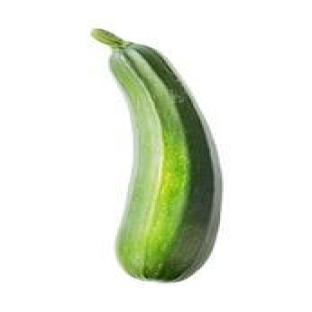Zucchini: (92, 29, 221, 280)
